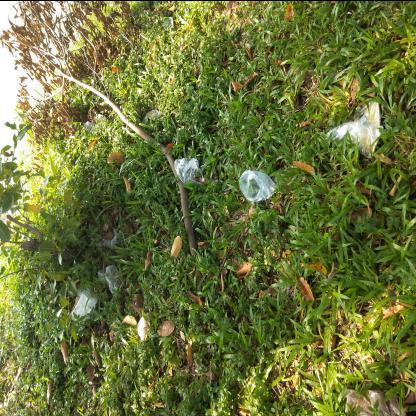plastik: (326, 98, 384, 158), (240, 170, 278, 202), (175, 157, 206, 185)
